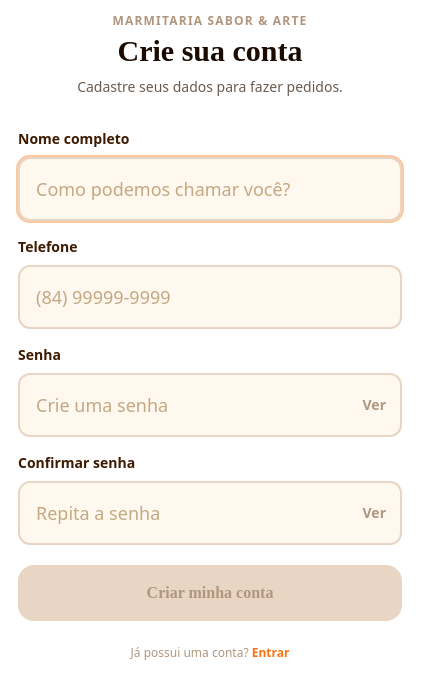
it: ClientRegisterPage › aplica a máscara de telefone enquanto o usuário digita
Type "84999999999" into the field labelled "Telefone" at (210, 297), box [18, 265, 402, 329]
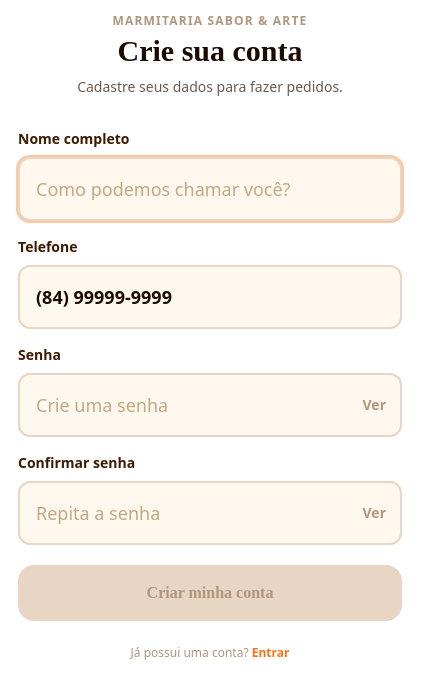
Check: the field labelled "Telefone" holds "(84) 99999-9999", box [18, 265, 402, 329]
